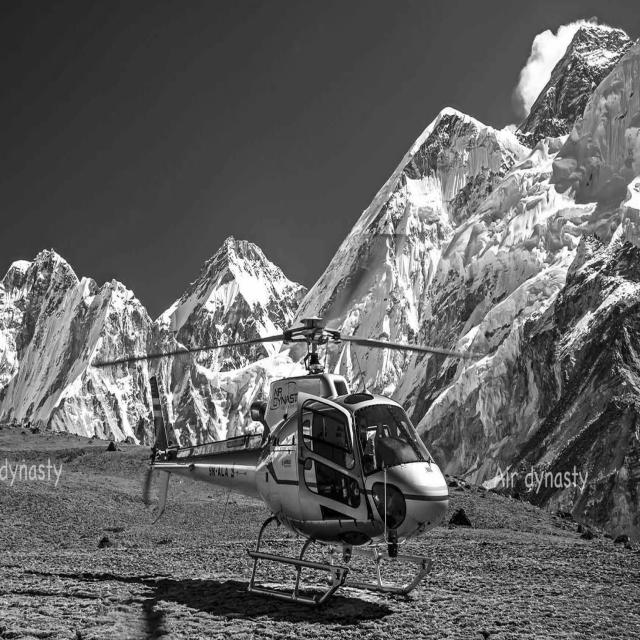helicopter: (75, 296, 494, 619)
